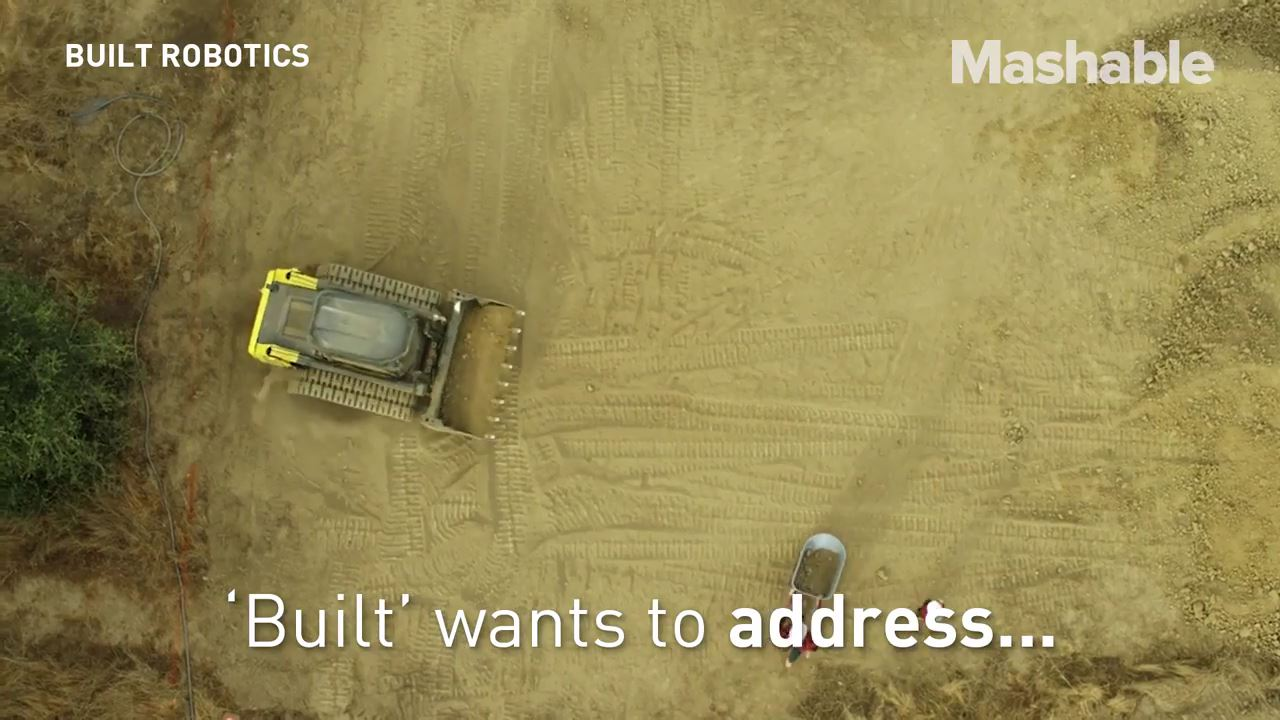con_eq: (235, 259, 521, 441)
